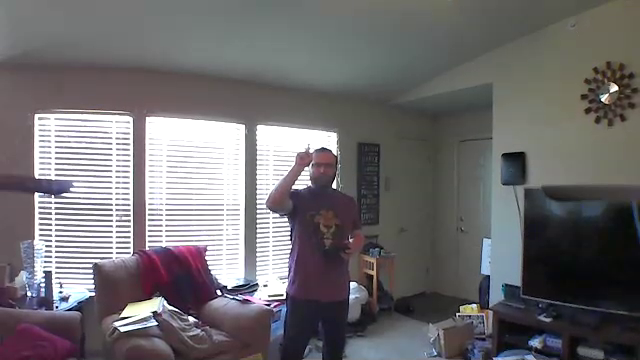up: (292, 138, 319, 171)
